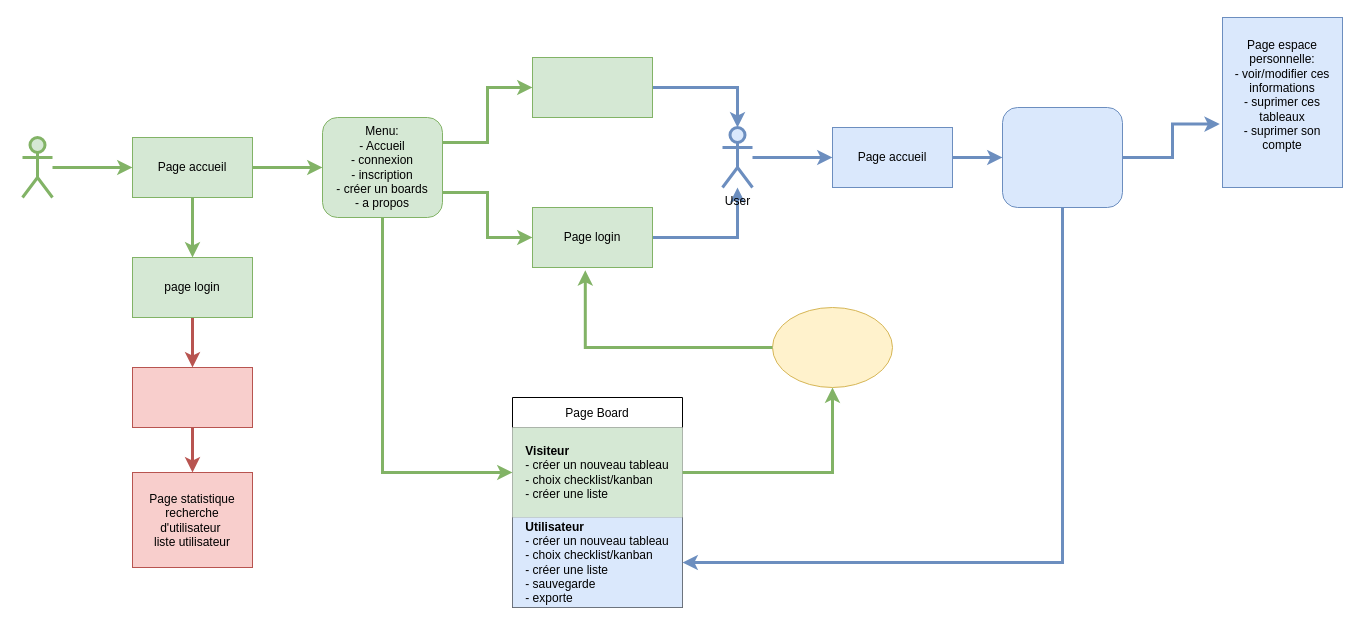
This 1360x625 diagram has some shape labels left out. Here are the shapes that lost their labels. From the top down, the centre of each, then its label:
point 592,87: Page inscription
point 37,167: Visiteur
point 1062,157: Menu: - accueil - déconnexion - mes boards - Mon espace - A propos
point 832,347: Clique sauvegarde/export
point 192,397: Page Administrateur
